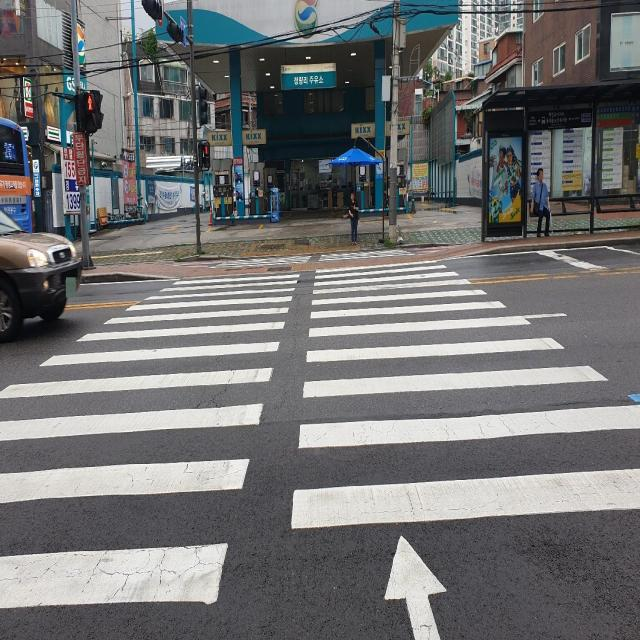zebra crossing ahead at: (0, 249, 640, 636)
